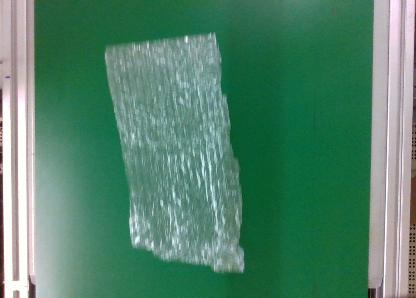Others: (98, 32, 252, 278)
